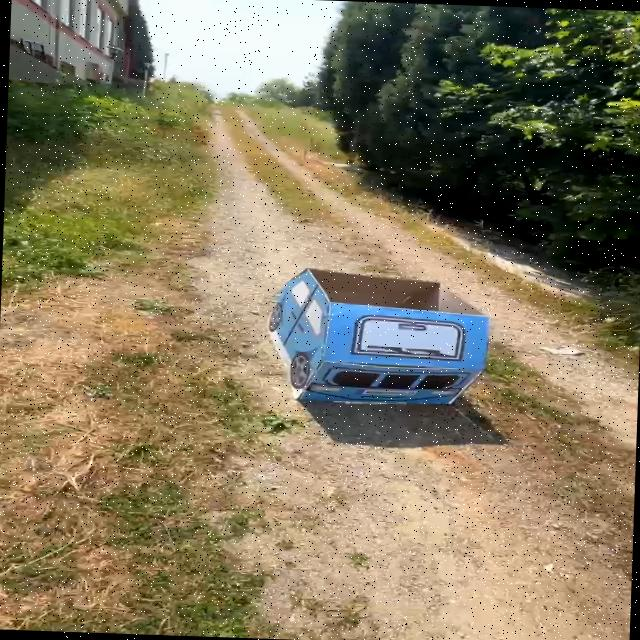blue_car: (224, 255, 517, 438)
